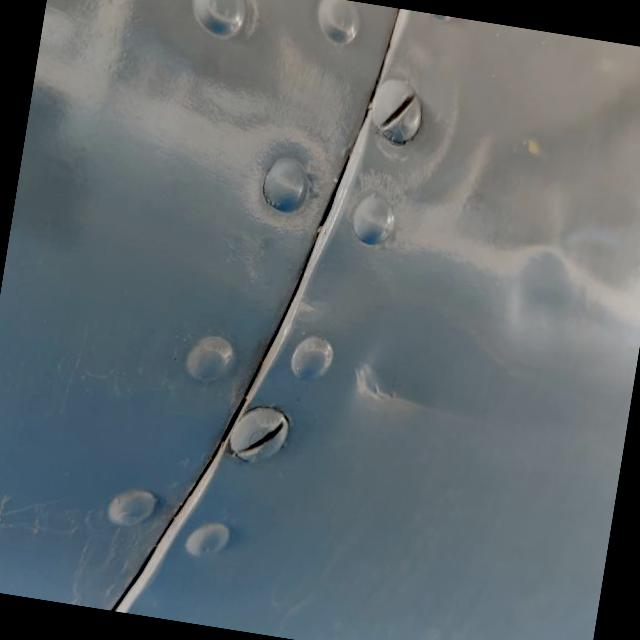dent: (332, 339, 452, 446)
